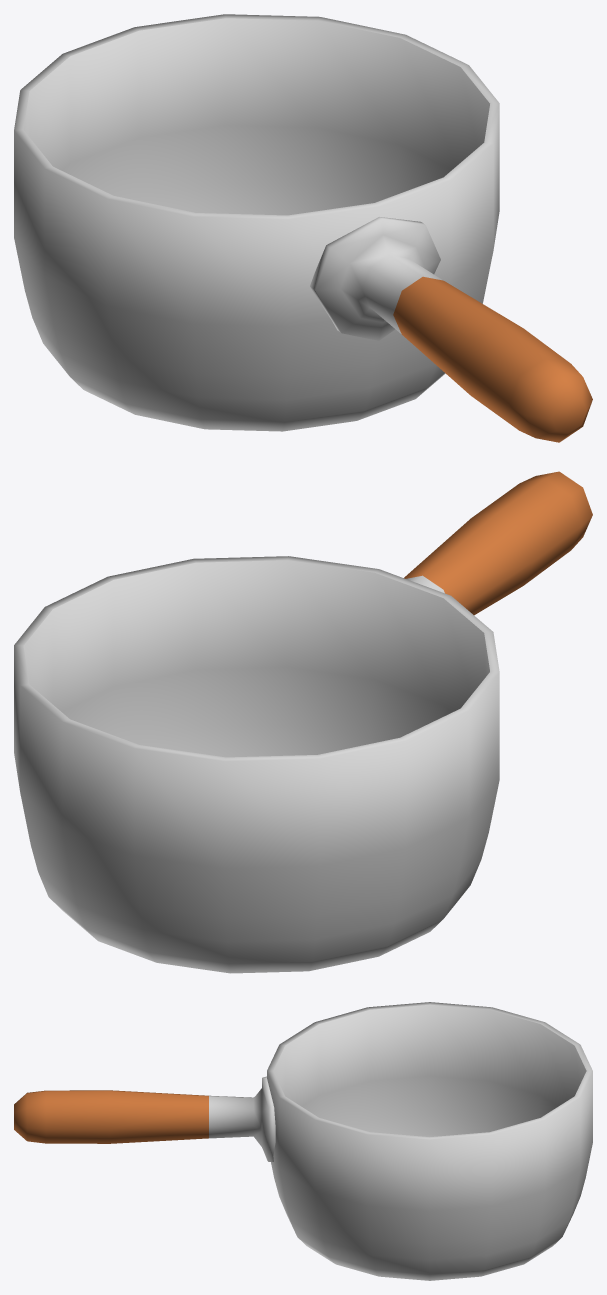
Rendered from Pot01.glb.
The picture shows the model from 3 angles, top to bottom: view 1: azimuth 30°, elevation 25°; view 2: azimuth 150°, elevation 25°; view 3: azimuth 270°, elevation 25°; orthographic projection. The views are drawn at different scales.
Visible parts, largest first — view 1: Cylinder; view 2: Cylinder; view 3: Cylinder.
Boxes of the visible parts, box(x1,y1,x2,y2) form: Cylinder: box(14, 14, 592, 442); Cylinder: box(14, 471, 592, 973); Cylinder: box(14, 1002, 592, 1280).
Size of the model in its own units: 0.7653 by 0.3978 by 1.36.
Materials: 2 (2 with a texture image).
